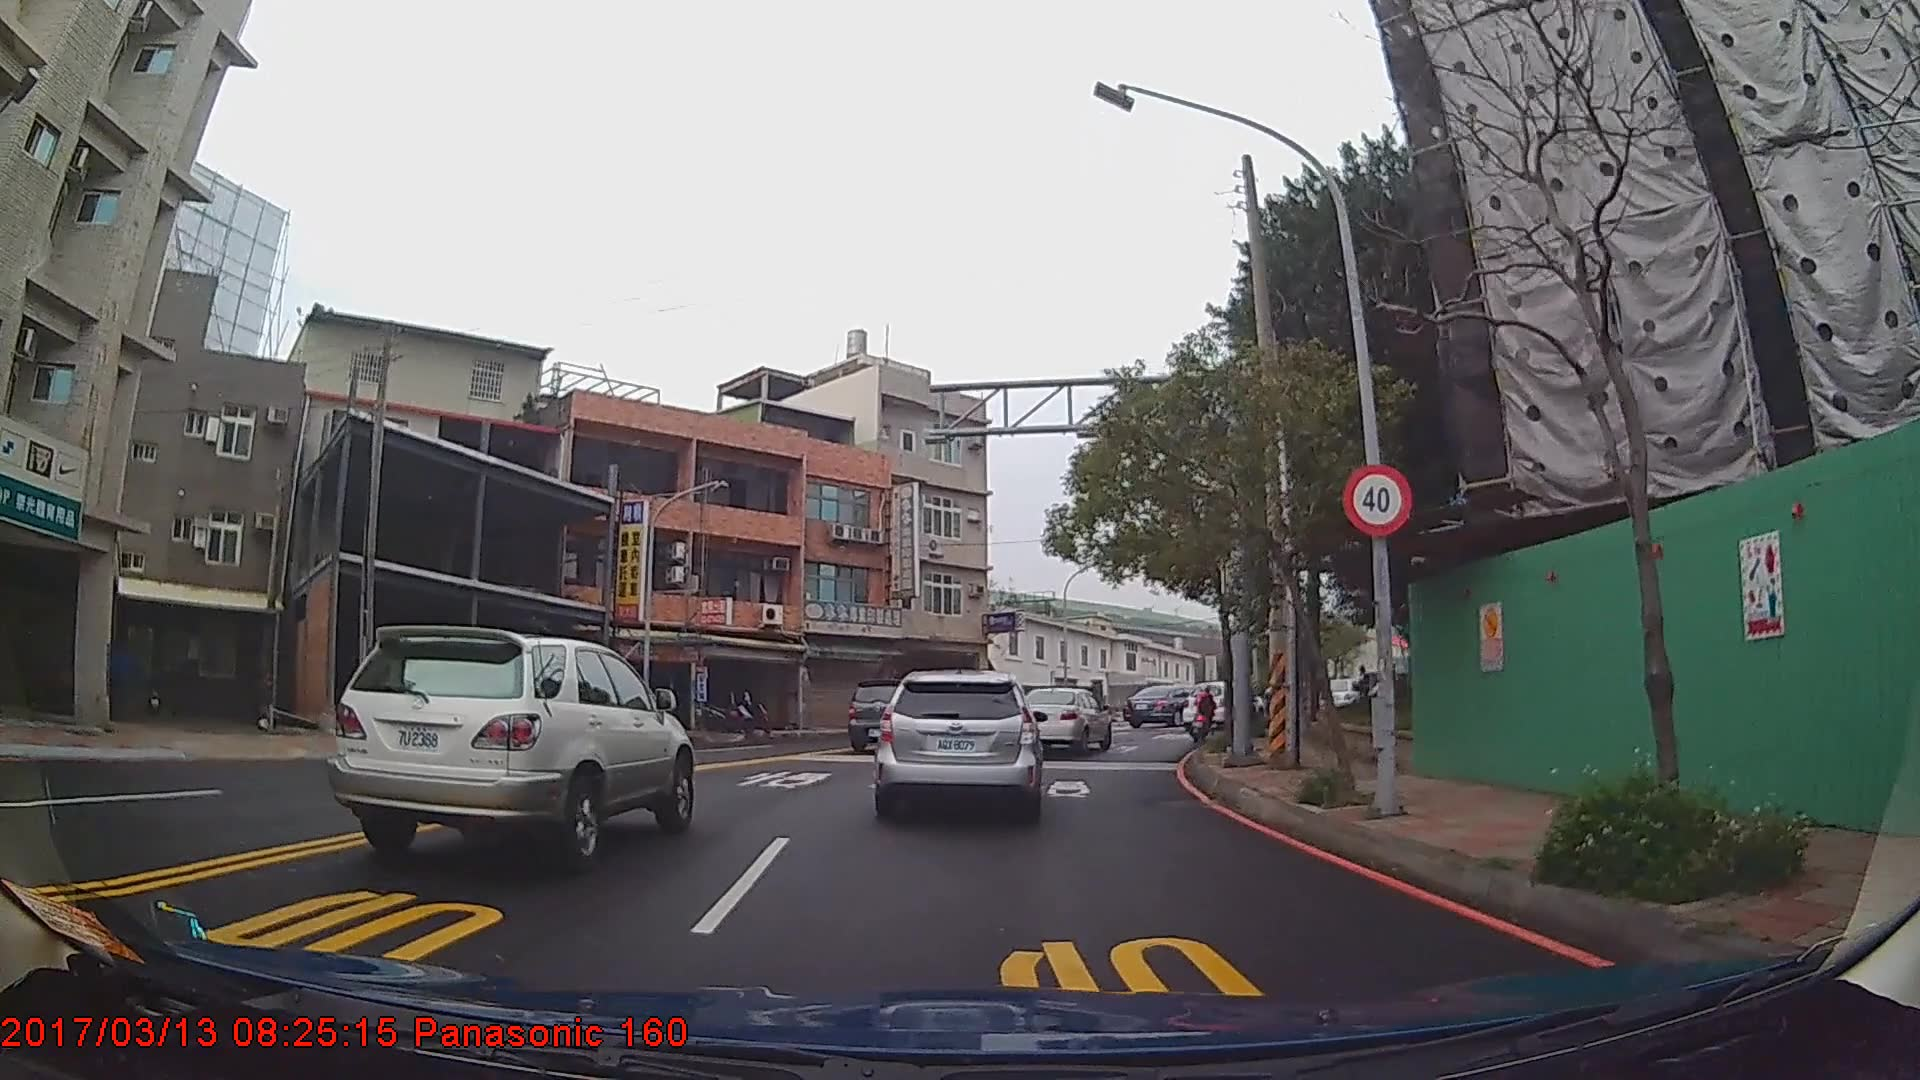rider: (1191, 686, 1217, 742)
vehicle: (330, 620, 694, 873), (874, 669, 1042, 823), (1018, 684, 1113, 756), (846, 681, 939, 751), (1123, 680, 1203, 727)
